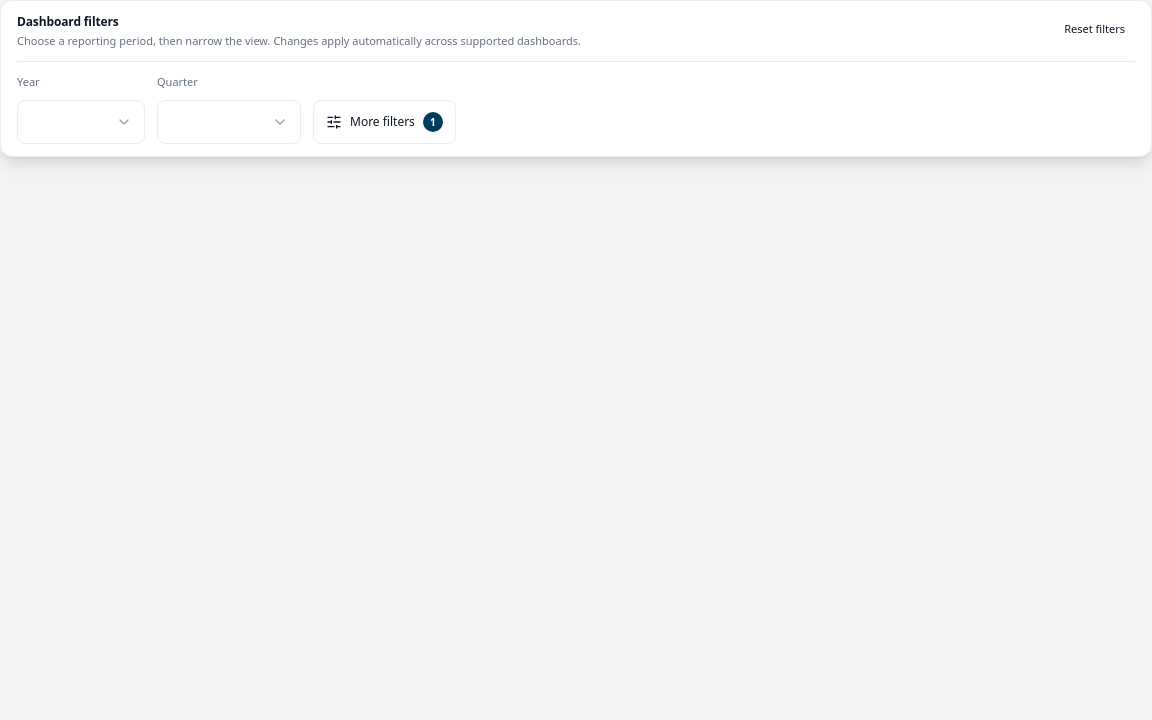
GlobalFilterBar › URL-backed selection › keeps the other filters when one changes
What coordinates should you click on to do the following:
click the button "More filters 1"
I would click on:
 (384, 122)
Its box is [313, 100, 456, 144].
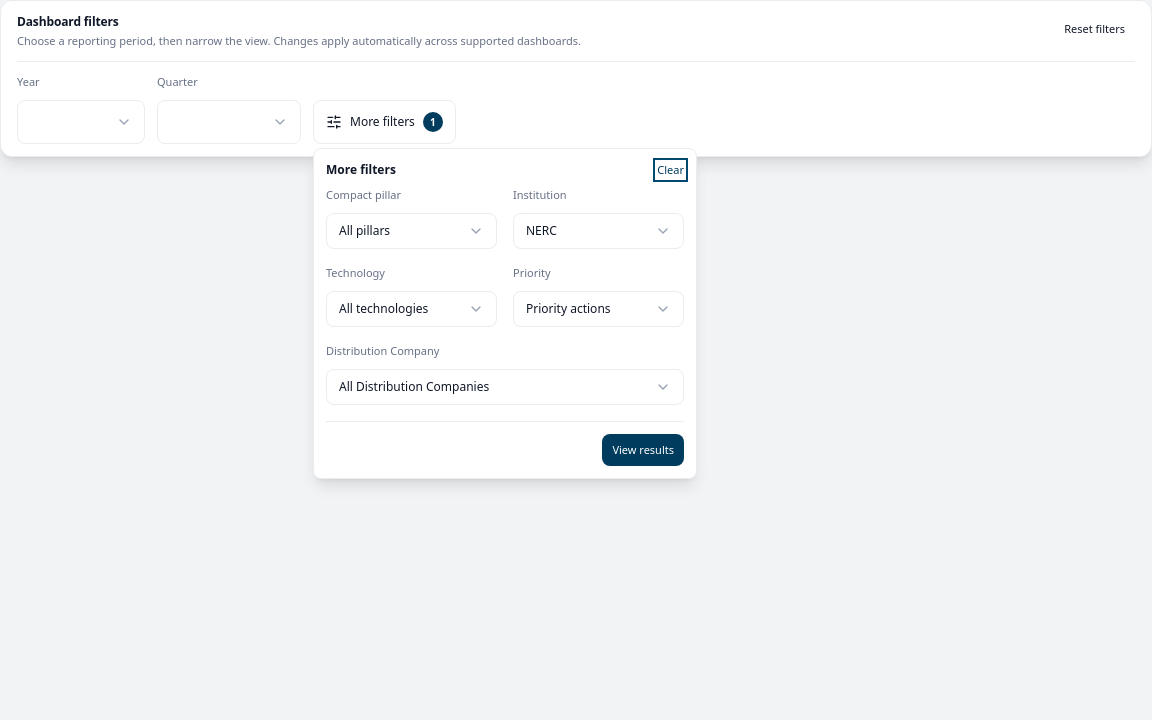
What coordinates should you click on to do the following:
click the dropdown named "Compact pillar"
I would click on:
 (412, 231)
Its box is [326, 213, 497, 249].
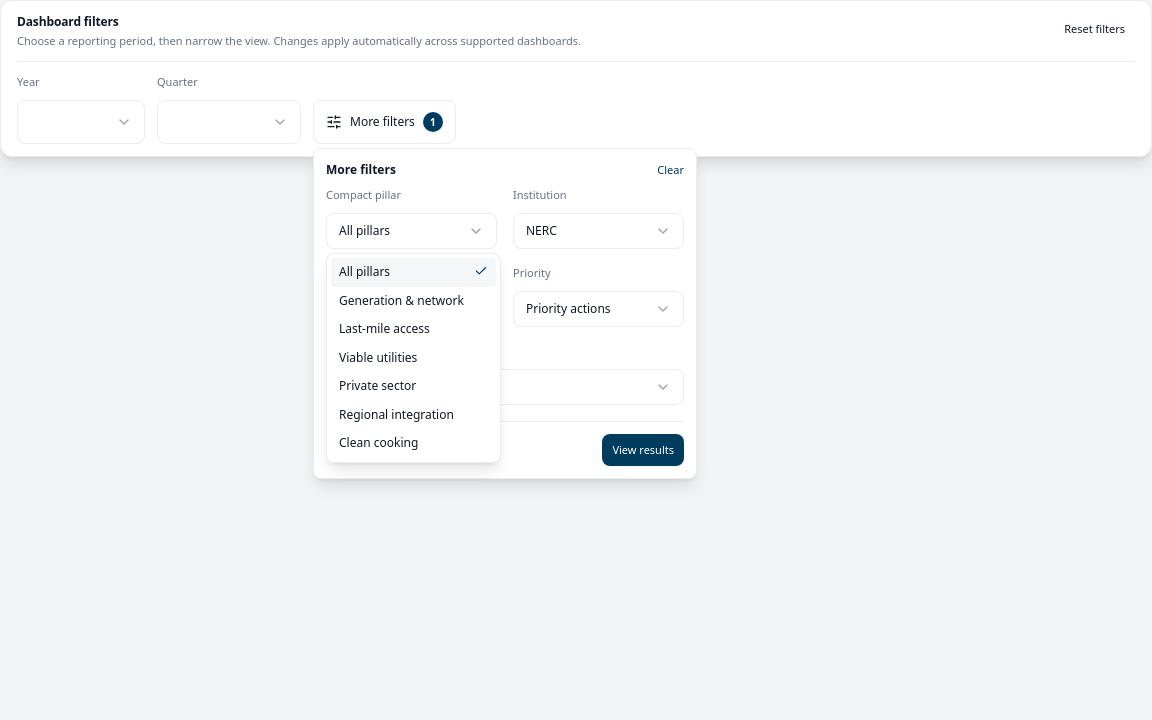
What coordinates should you click on to do the following:
click the option "Clean cooking"
I would click on:
 (379, 442)
Its box is [339, 434, 418, 451].
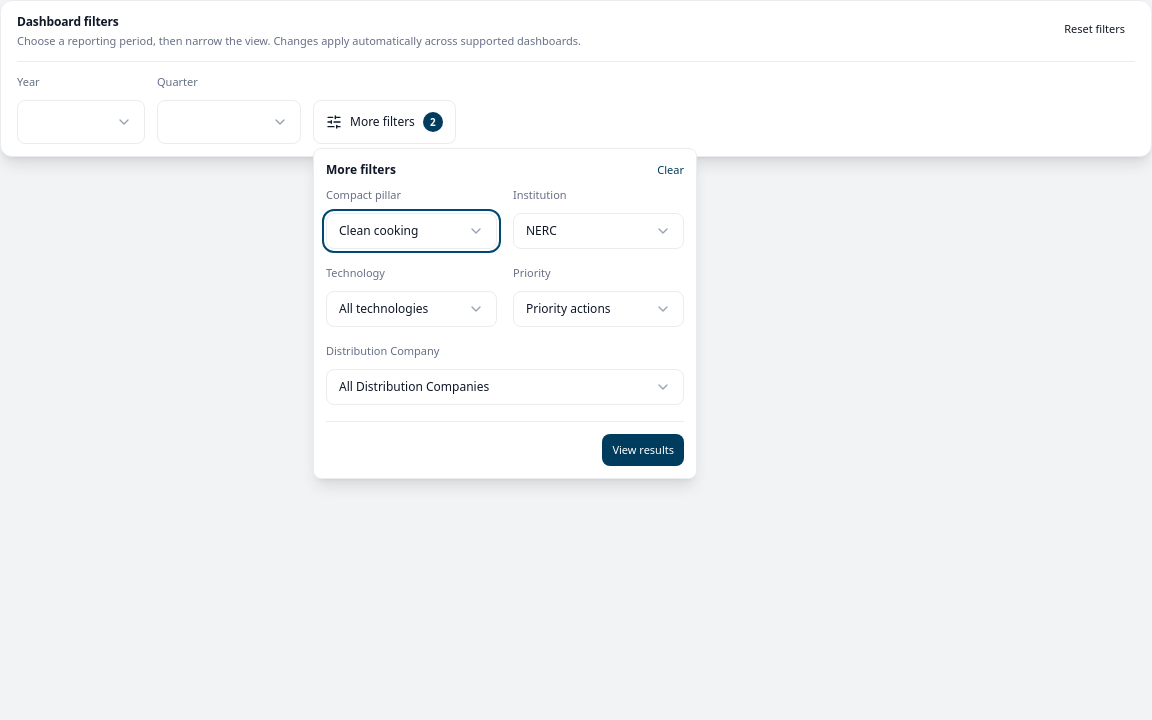
Expected: the dropdown named "Institution" reads "NERC", [513, 213, 684, 249]
Expected: the dropdown named "Compact pillar" reads "Clean cooking", [326, 213, 497, 249]
